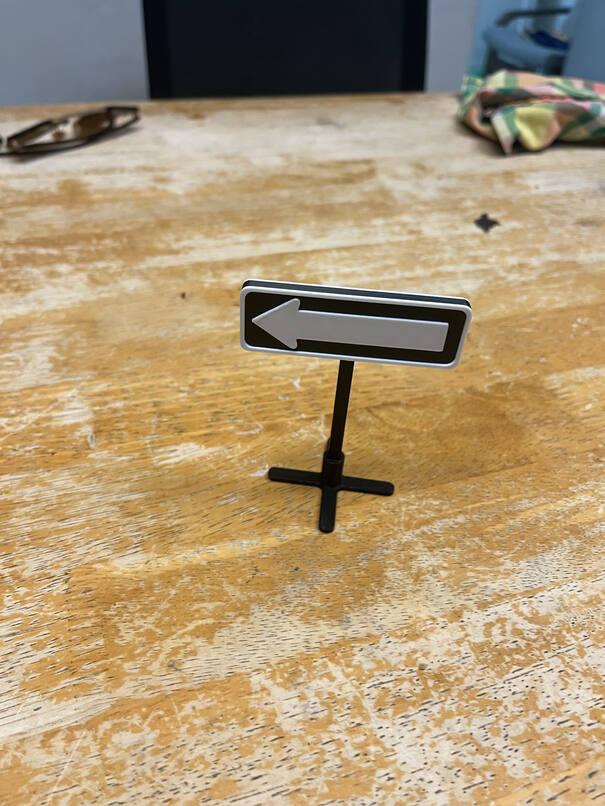sign_oneway_left: (240, 281, 473, 380)
